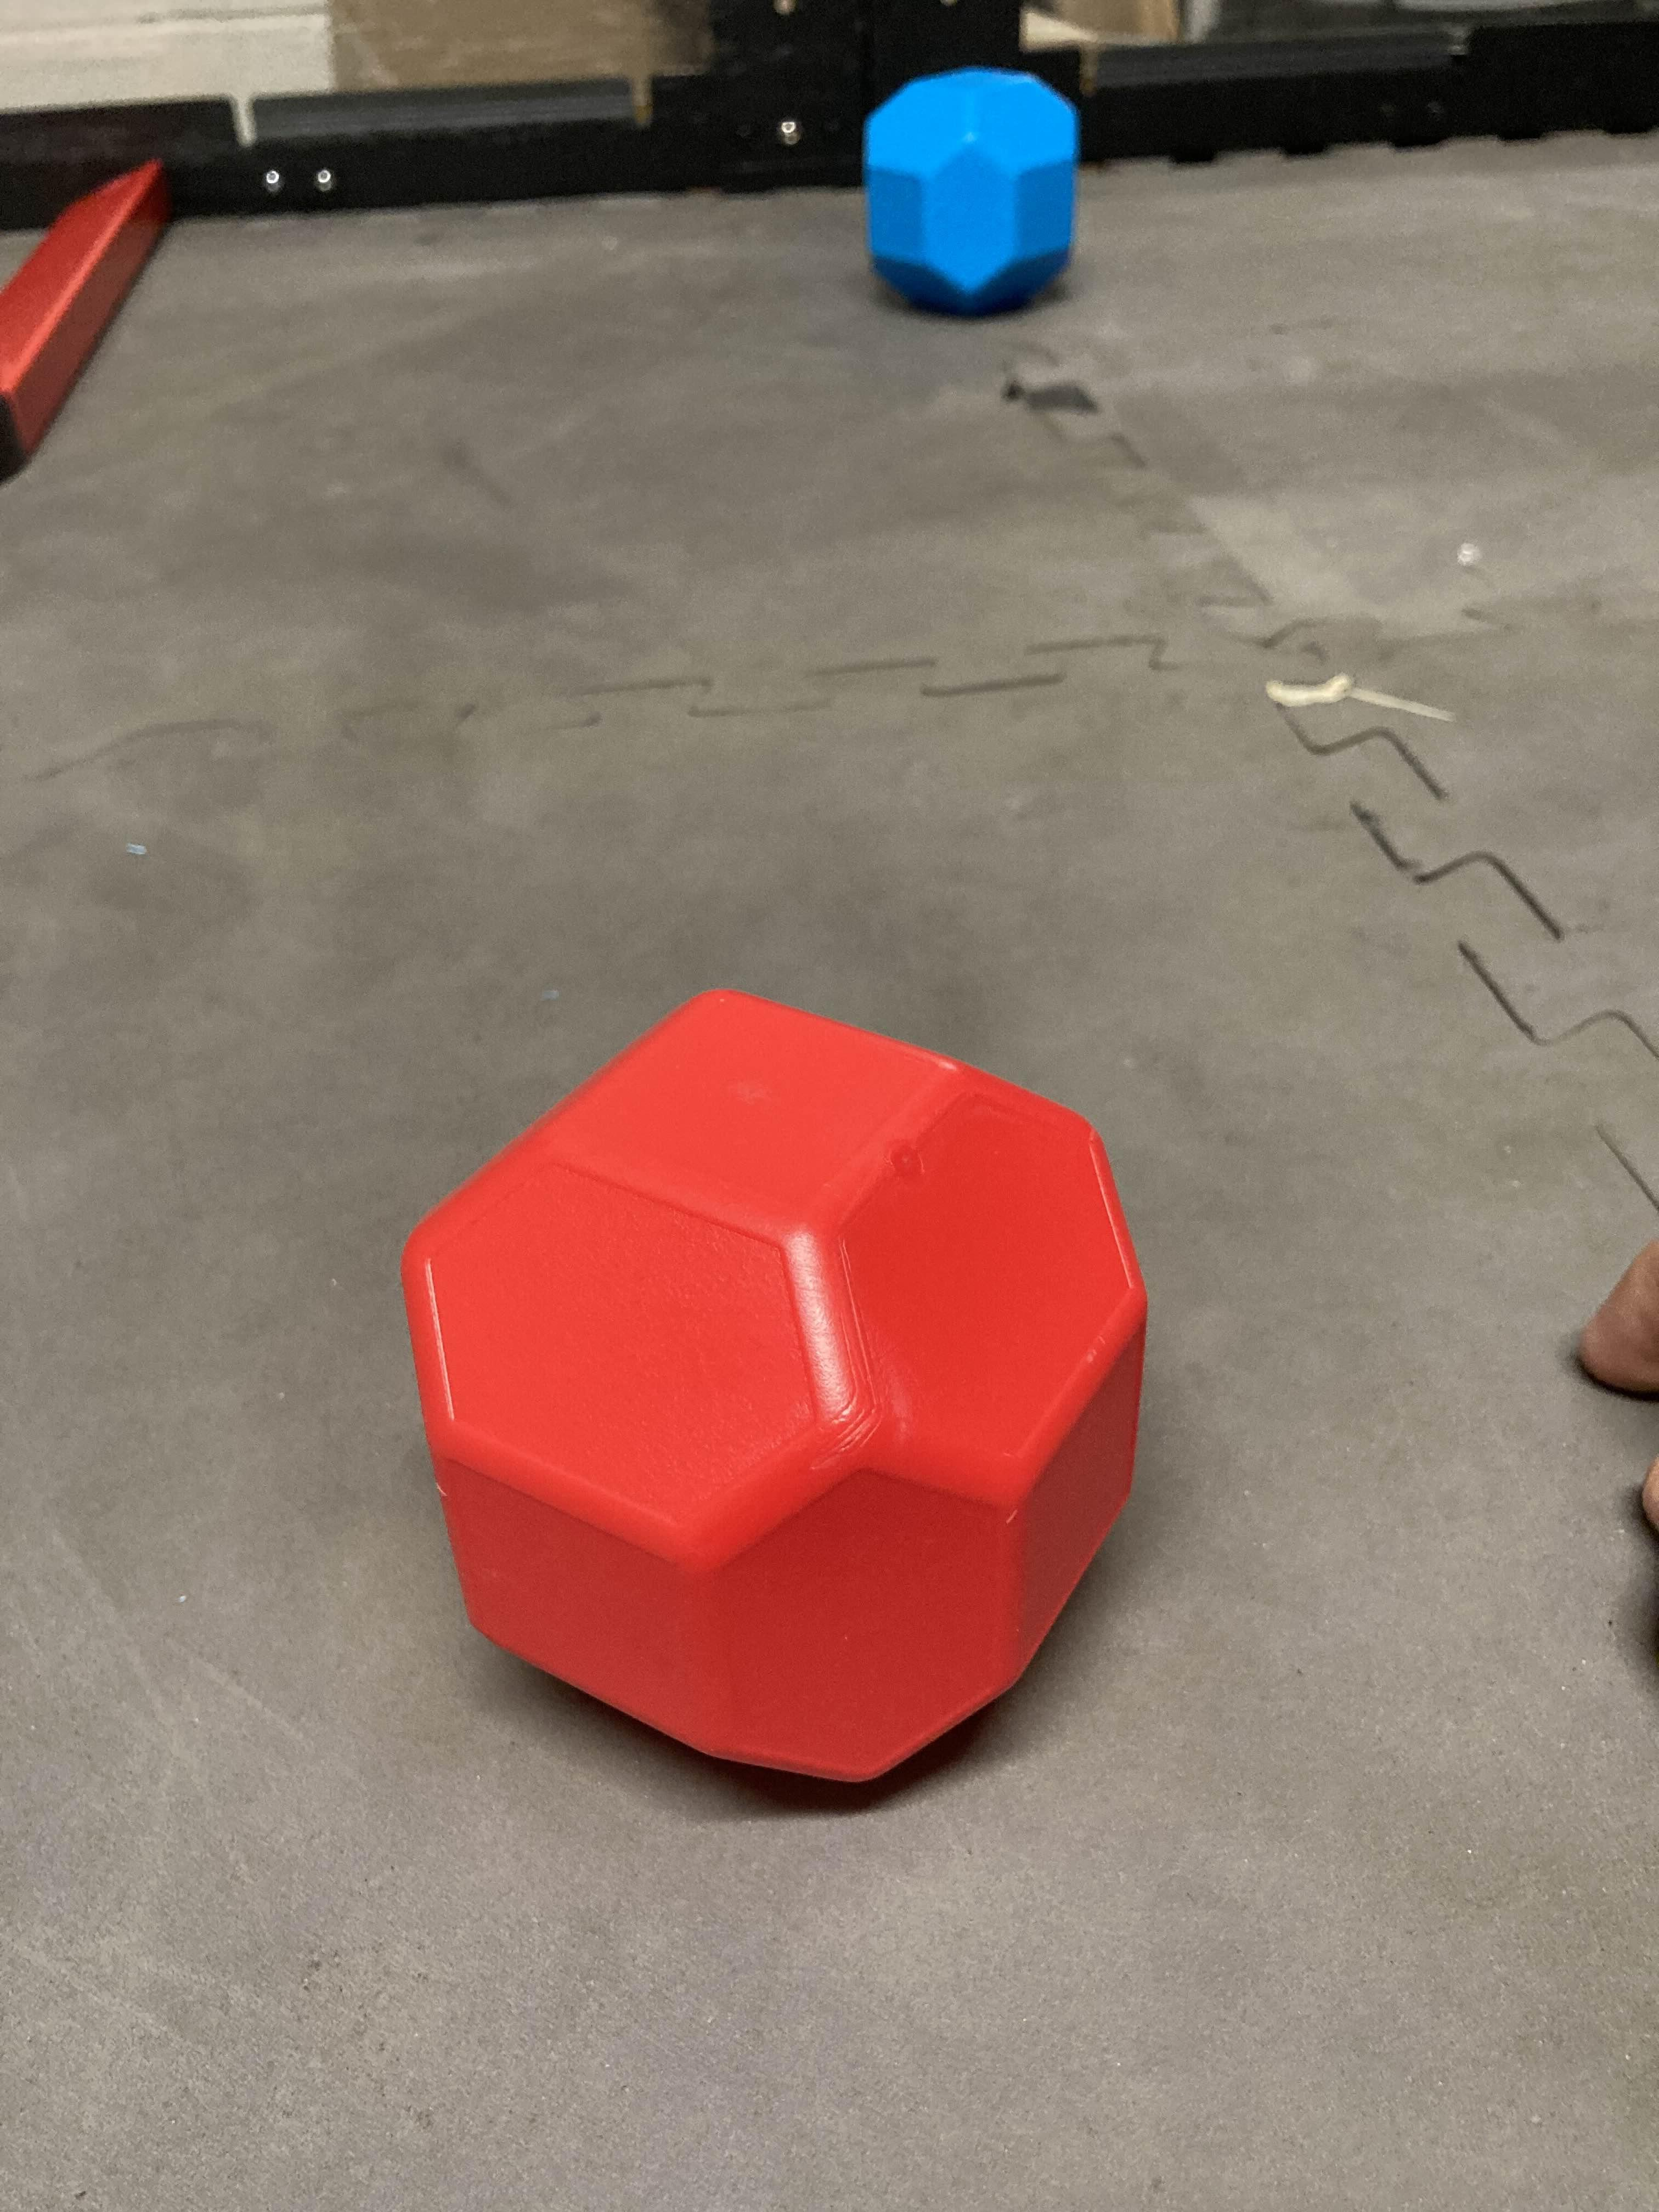Vex-Pieces-BLUE: (861, 66, 1082, 322)
Vex-Pieces-RED: (397, 991, 1152, 1796)
